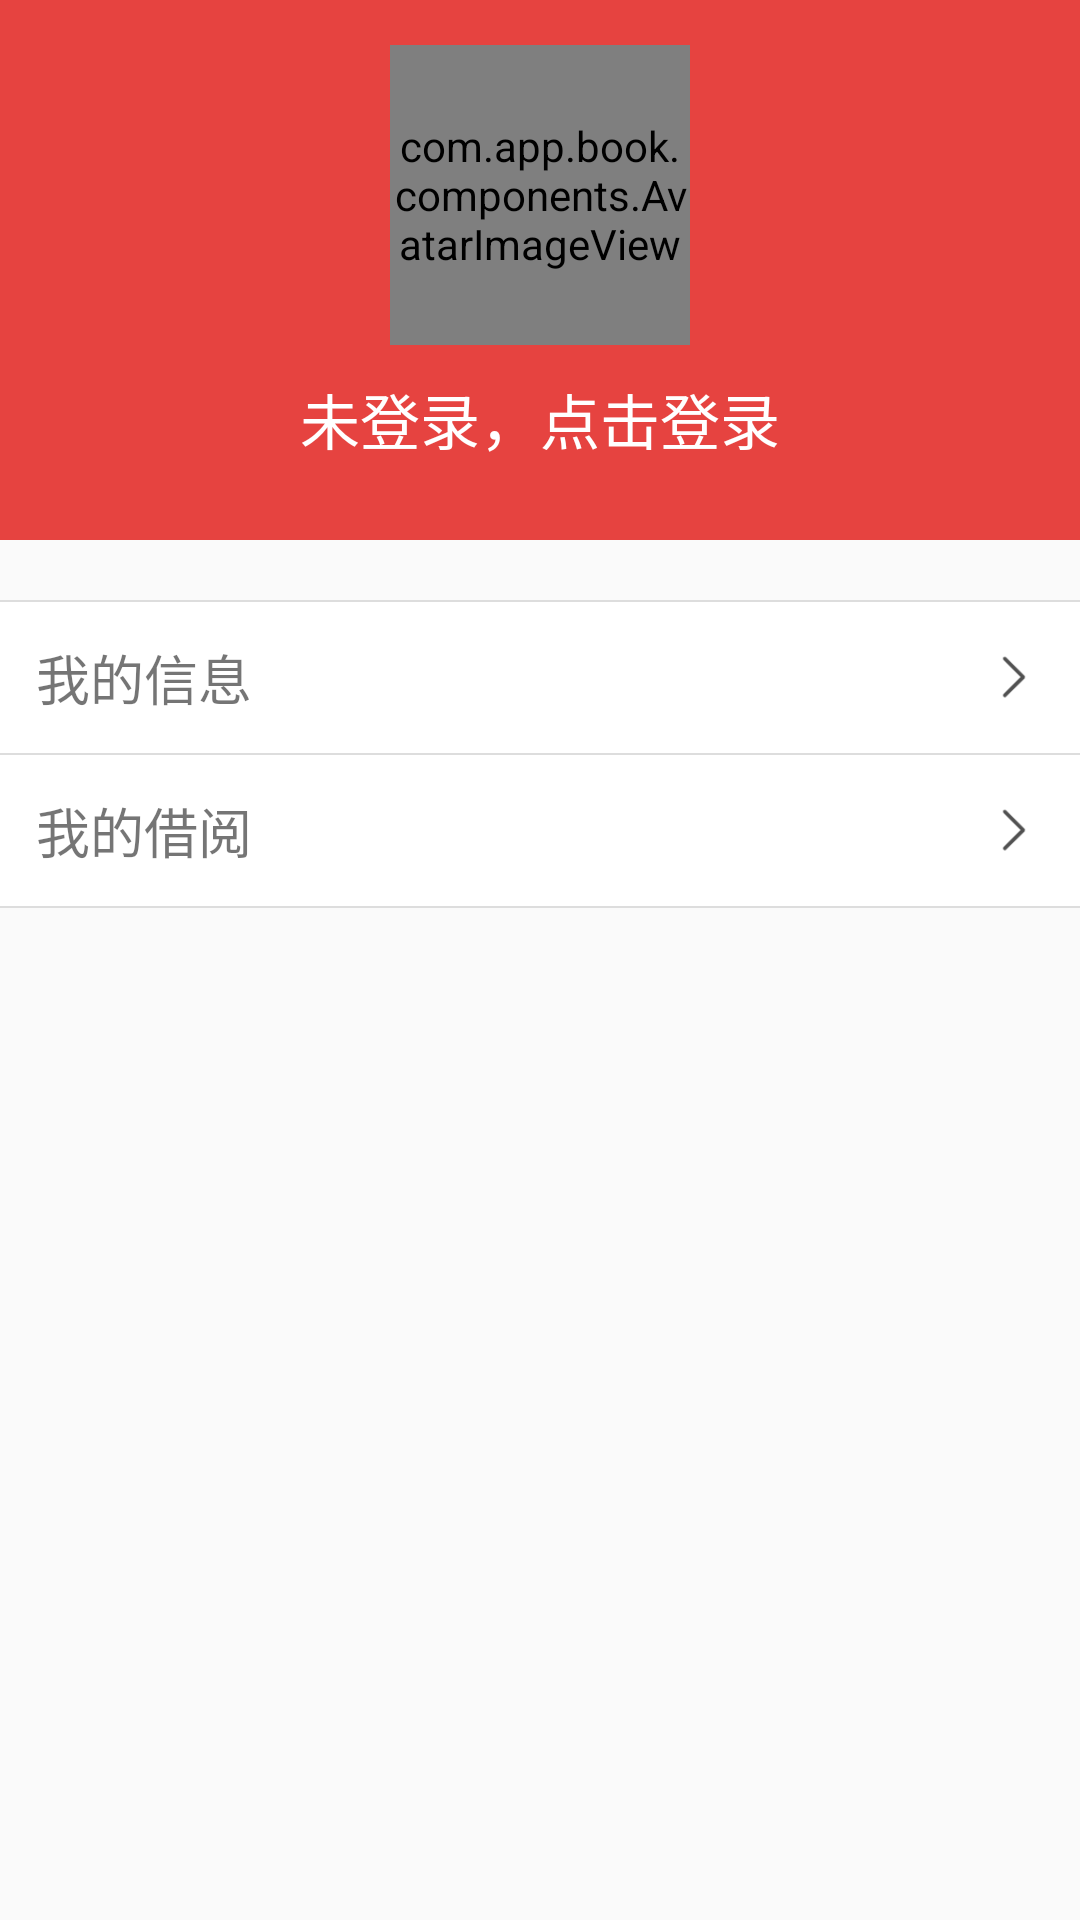

Where to tap for icons on this 1080px×1920px app screen, as point (x, y):
arrow: point (1013, 677), point (1013, 830)
